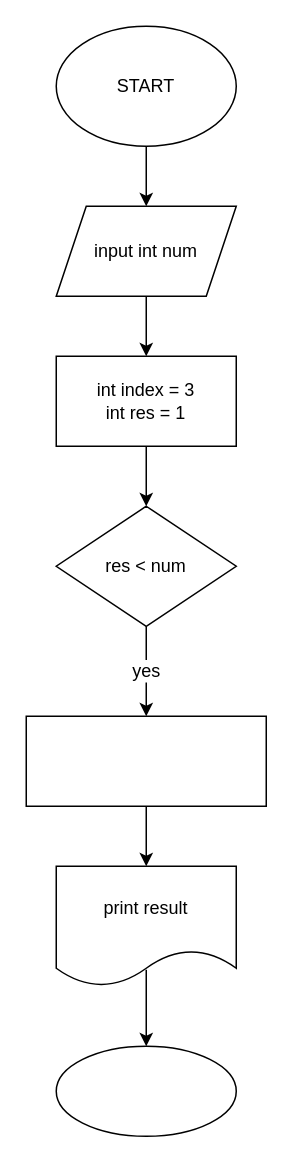
Image size: 293x1163. Some labels were removed from this diagram. The box of each missing label's shape, as (x1, y1, x2, y2) in pixels:
double result = res ^ index res ++: (25, 715, 266, 806)
FINISH: (55, 1045, 236, 1136)
